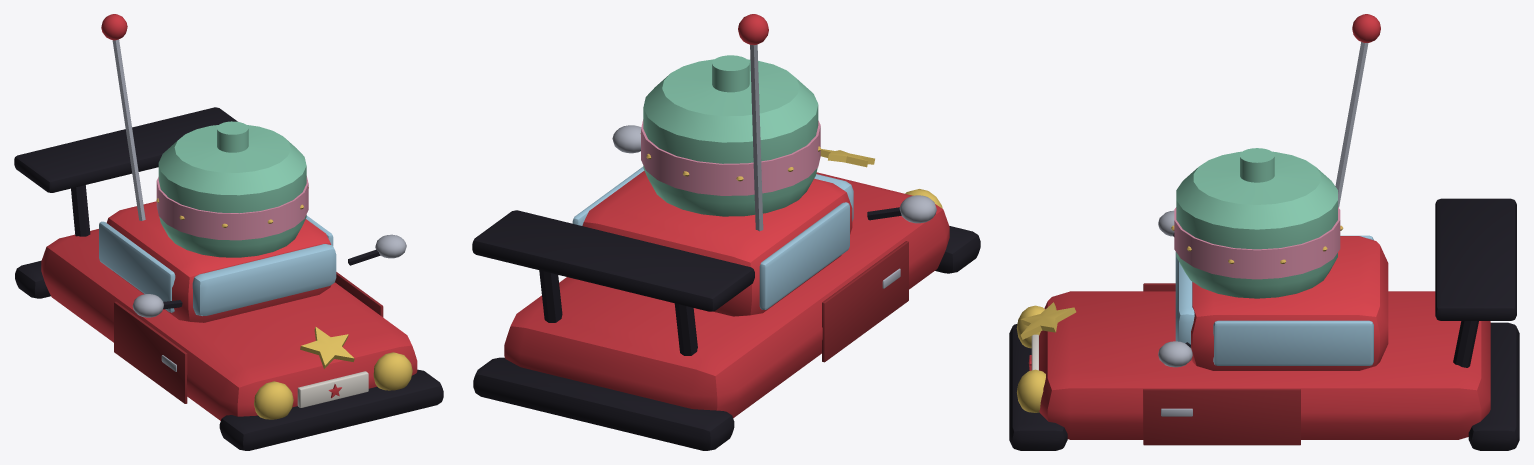
The model's file is Car_Body.fbx.
3 views of the same model, side by side, from view 1: azimuth 30°, elevation 25°; view 2: azimuth 150°, elevation 25°; view 3: azimuth 270°, elevation 25° (orthographic). The views are drawn at different scales.
Visible parts, largest first — view 1: Car_Body; view 2: Car_Body; view 3: Car_Body.
Part boxes in pixels (x1,y1,x2,y2): Car_Body: [14, 14, 443, 450]; Car_Body: [472, 14, 980, 450]; Car_Body: [1009, 14, 1519, 450].
Bounding box in the file's own units: 0.236 × 0.263 × 0.35.
